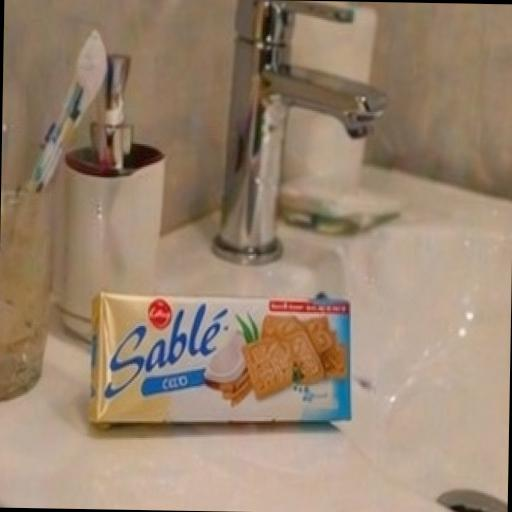sable: (34, 216, 416, 488)
